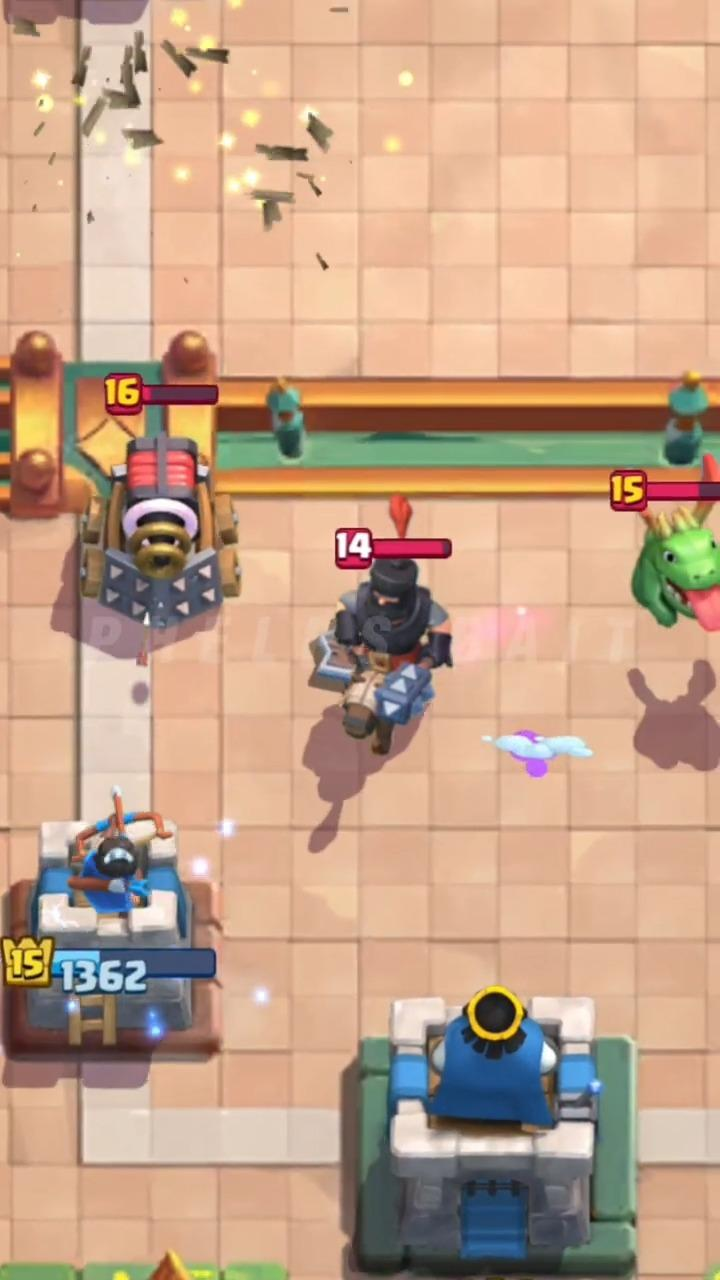baby dragon: (631, 503, 719, 631)
dark prince: (325, 559, 452, 754)
sparky: (78, 438, 241, 656)
